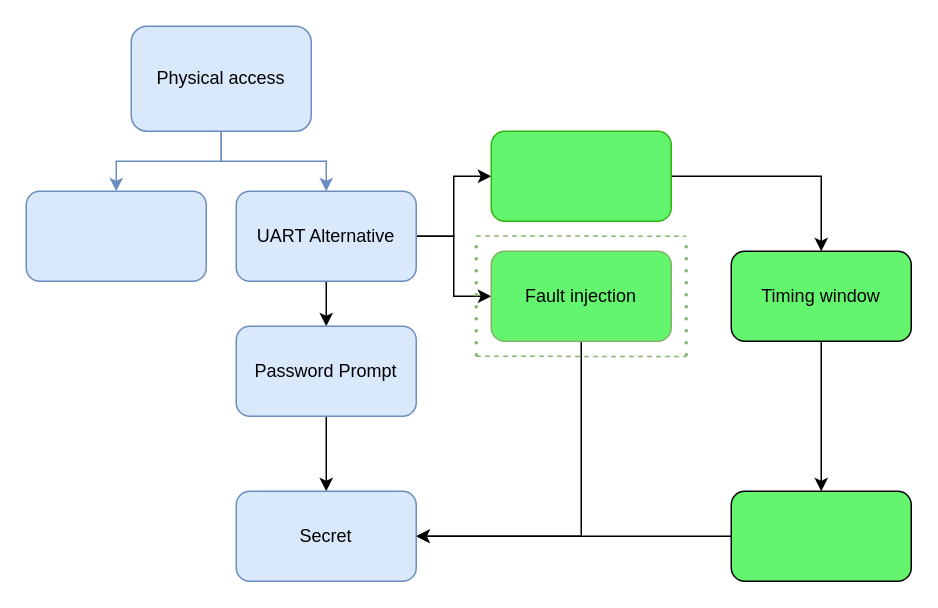
This 938x608 diagram has some shape labels left out. Here are the shapes that lost their labels. From the top down, the box of each, then its label:
(490, 130, 671, 221): CW-N Interface
(25, 190, 206, 281): UART Default
(730, 490, 911, 581): Prompt Bypass
